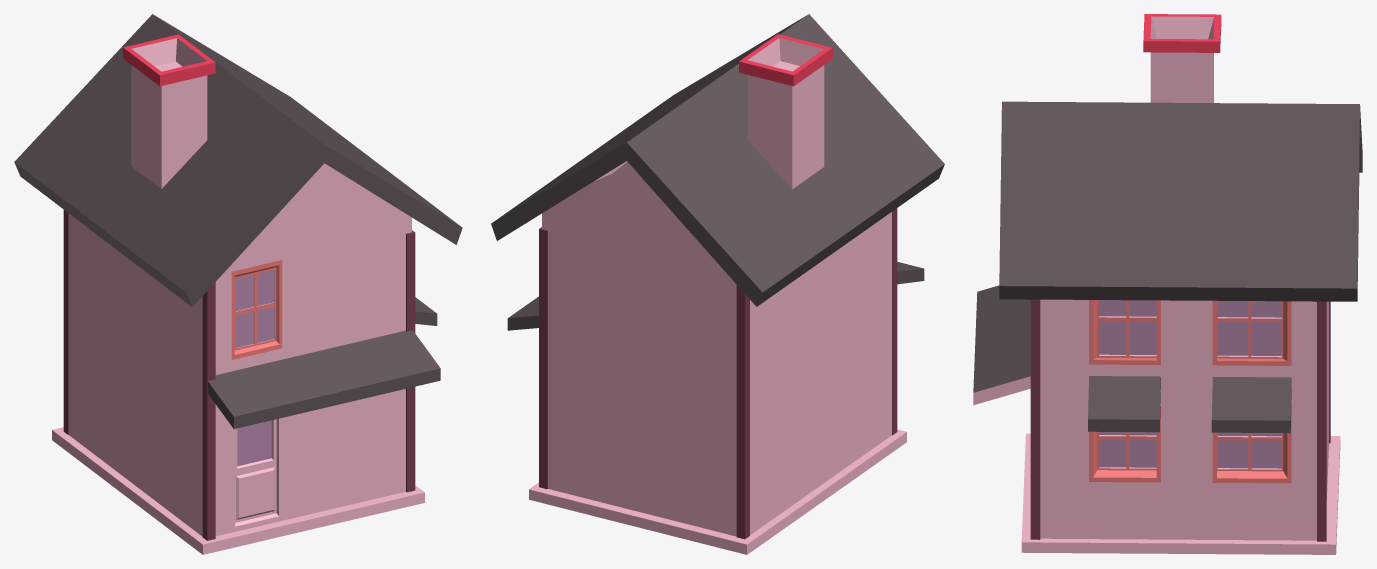
File: small5.glb
3 views of the same model, side by side, from view 1: azimuth 30°, elevation 25°; view 2: azimuth 150°, elevation 25°; view 3: azimuth 270°, elevation 25° (orthographic).
Visible parts, largest first — view 1: Residential 10.001; view 2: Residential 10.001; view 3: Residential 10.001.
Part boxes in pixels (<box>): Residential 10.001: <box>14,14,462,554</box>; Residential 10.001: <box>491,14,944,554</box>; Residential 10.001: <box>973,14,1362,554</box>.
Size of the model in its own units: 6.49 by 9.08 by 7.32.
1 material, 1 textured.
